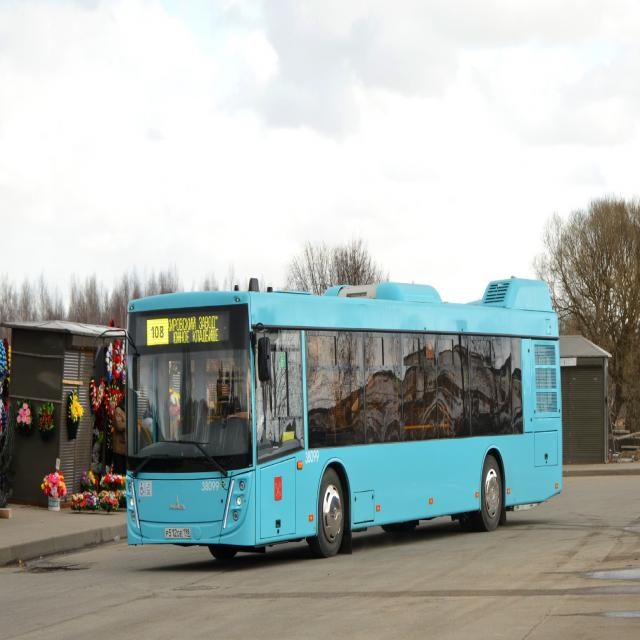number-of-bus: (150, 323, 167, 342)
